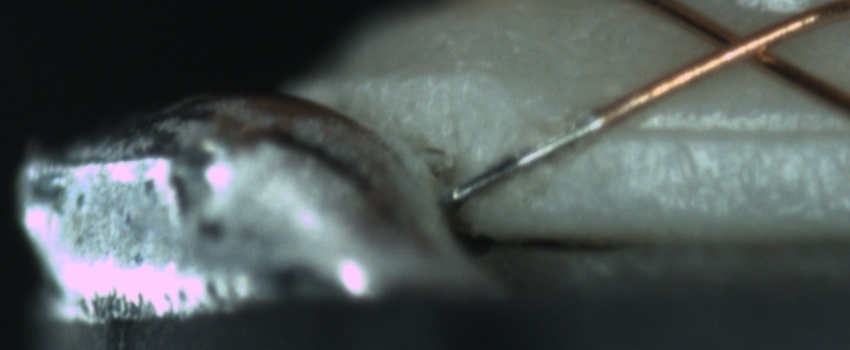CL: (686, 11, 799, 77)
DL: (620, 101, 850, 157)
TS: (445, 116, 601, 207)
TTCW: (453, 89, 650, 203)
